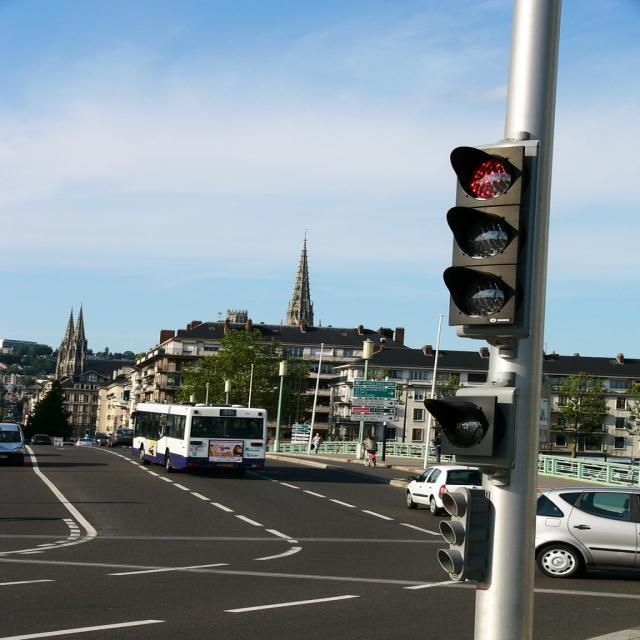traffic light: (441, 145, 524, 326), (435, 486, 491, 584)
